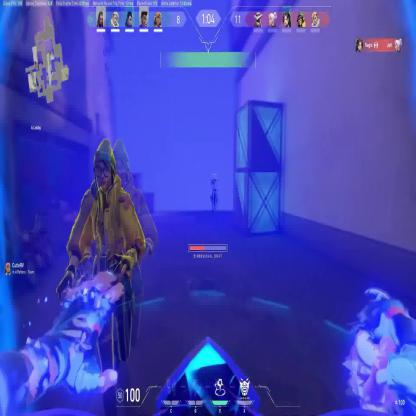enemy: (56, 136, 147, 416), (210, 174, 218, 214)
enemy_head: (92, 138, 116, 193), (212, 173, 215, 179)
